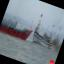fishing boat: (29, 12, 62, 50), (4, 11, 37, 45)
